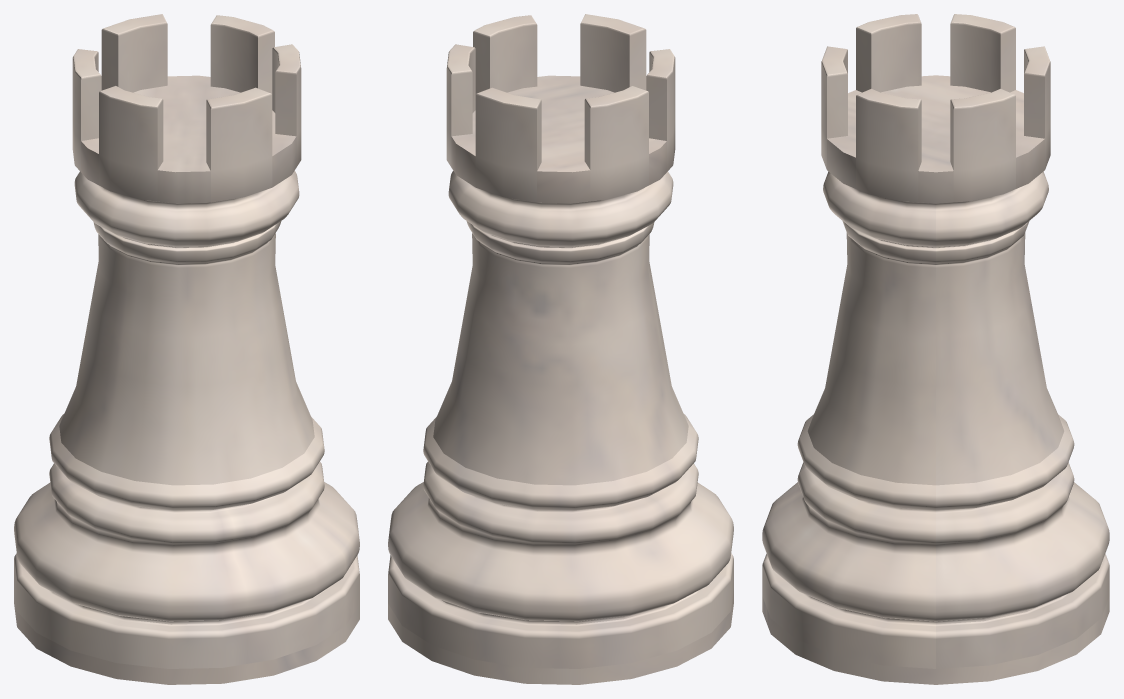
The model's file is rook.obj.
3 views of the same model, side by side, from view 1: azimuth 30°, elevation 25°; view 2: azimuth 150°, elevation 25°; view 3: azimuth 270°, elevation 25° (orthographic).
Visible parts, largest first — view 1: chessKitExport.001; view 2: chessKitExport.001; view 3: chessKitExport.001.
Boxes of the visible parts, <box> form: chessKitExport.001: <box>14,14,359,684</box>; chessKitExport.001: <box>388,14,733,684</box>; chessKitExport.001: <box>762,14,1109,684</box>.
Bounding box in the file's own units: 3.57 × 6.25 × 3.57.
